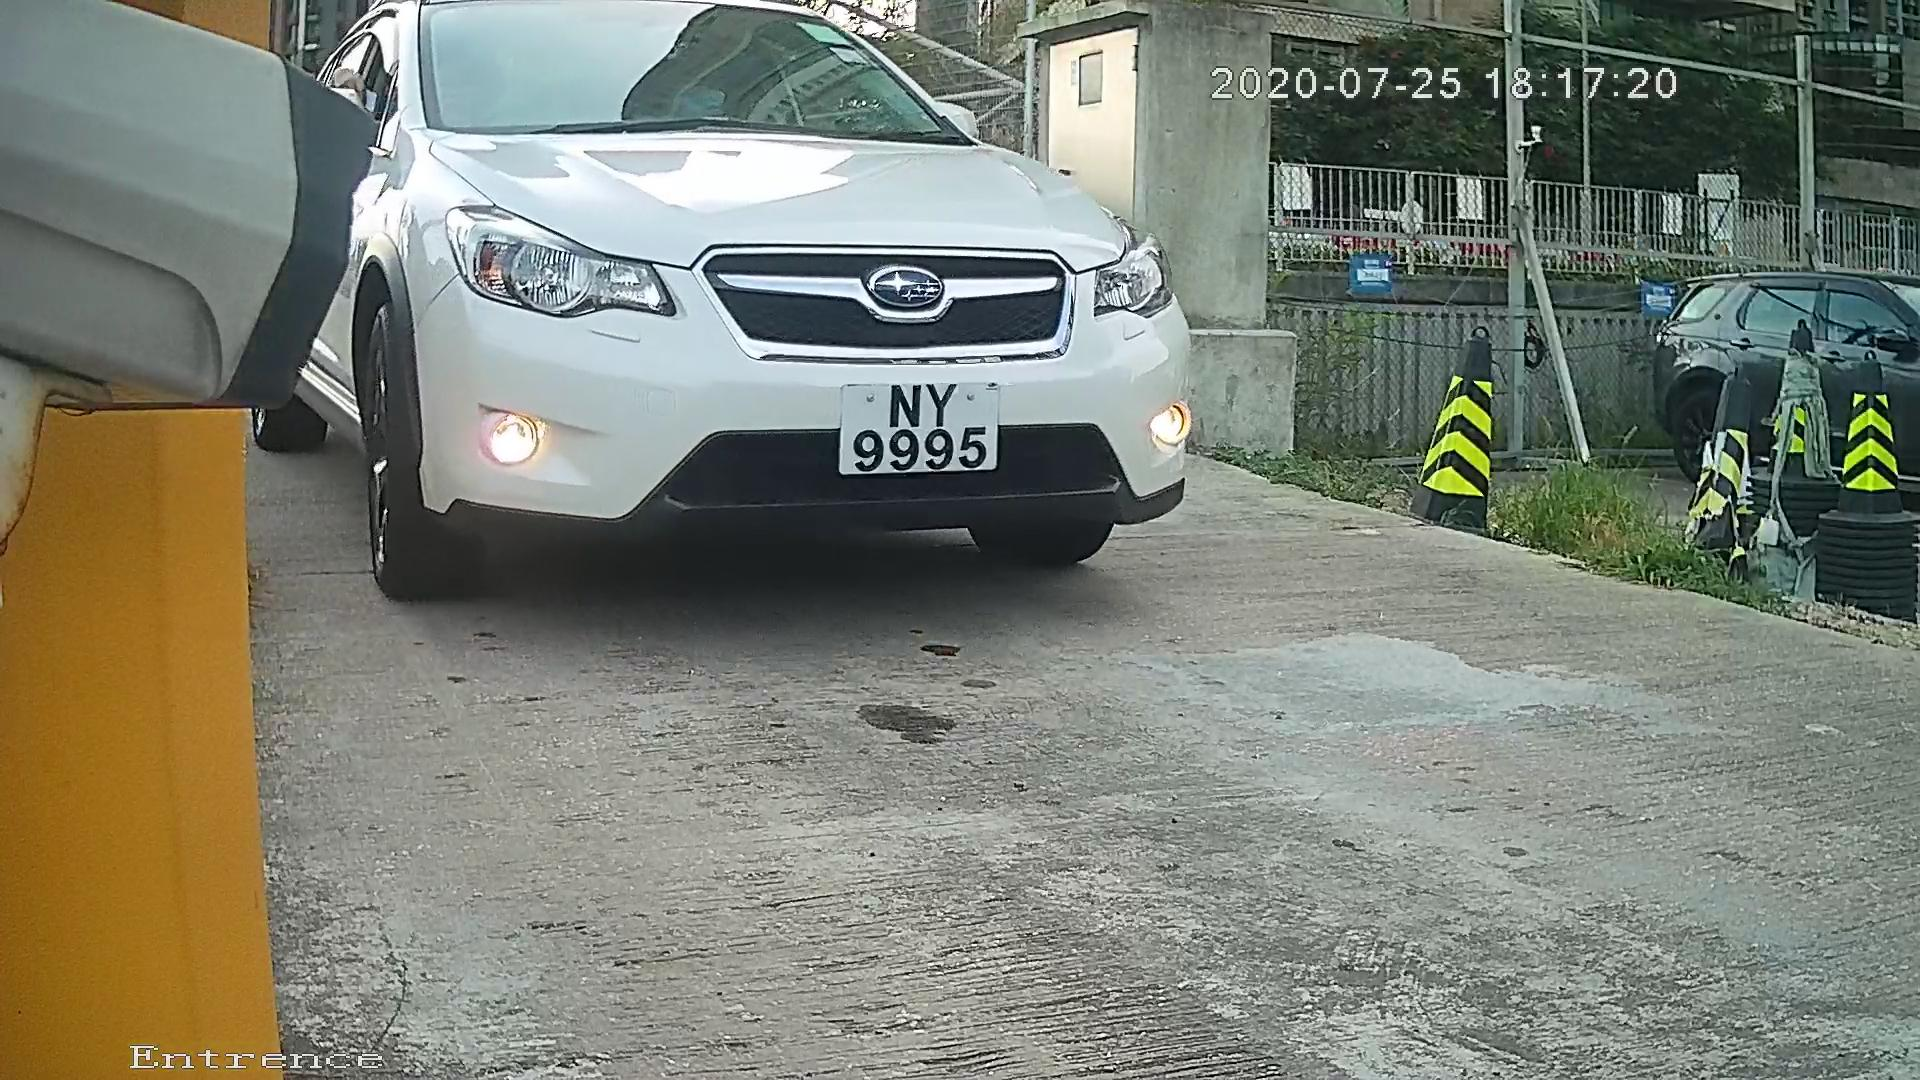Car: (155, 1, 1252, 632)
License Plate: (823, 367, 1012, 487)
